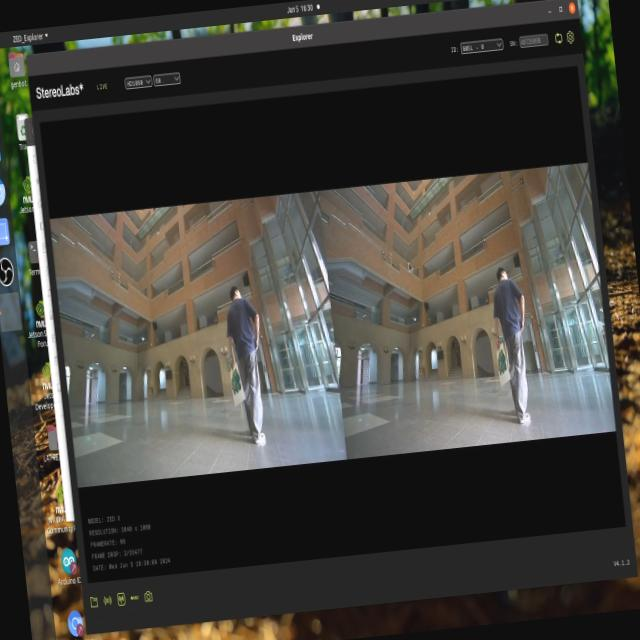green: (492, 341, 512, 380), (229, 369, 243, 402)
